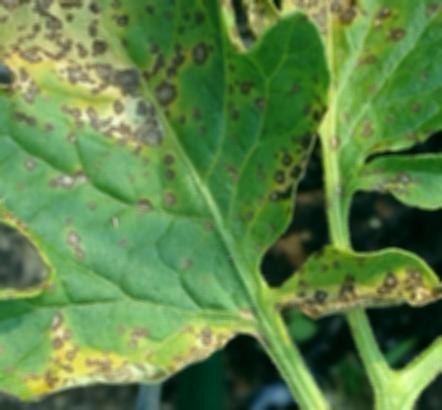Tomato Septoria leaf spot: (0, 0, 442, 410), (196, 0, 442, 219)
